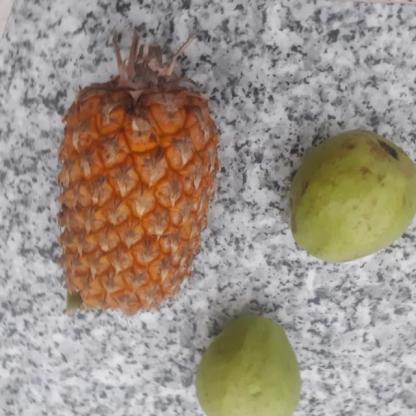guava: (282, 134, 416, 260), (191, 316, 304, 416)
pineapple: (54, 69, 220, 322)
